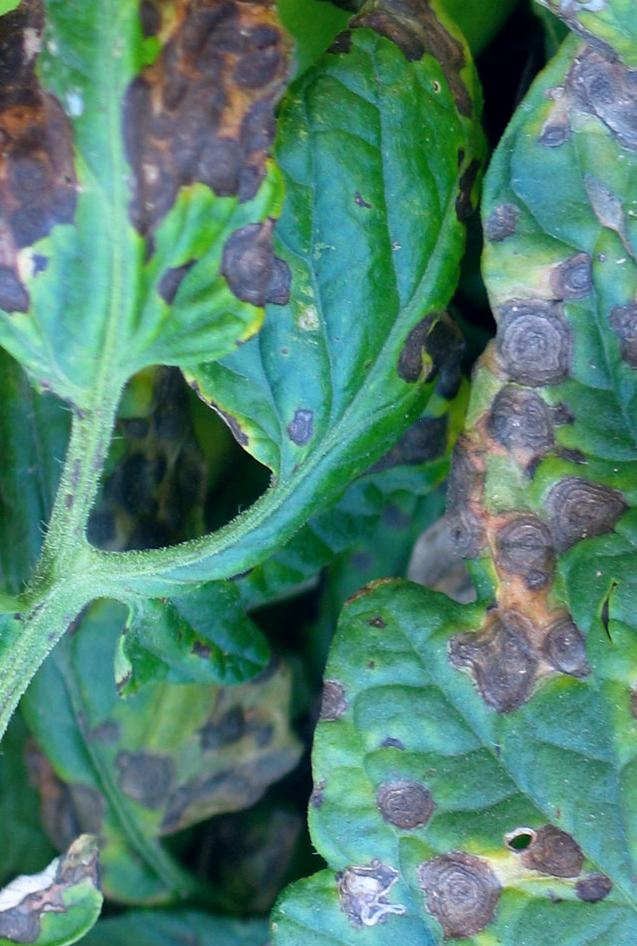Tomato Early blight leaf: (265, 0, 637, 946), (0, 0, 374, 404), (237, 0, 525, 486)
